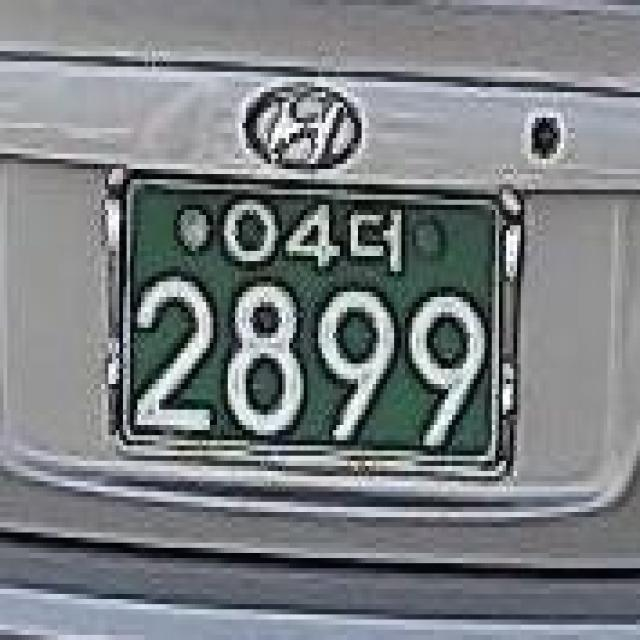illegal_plate: (96, 153, 530, 487)
